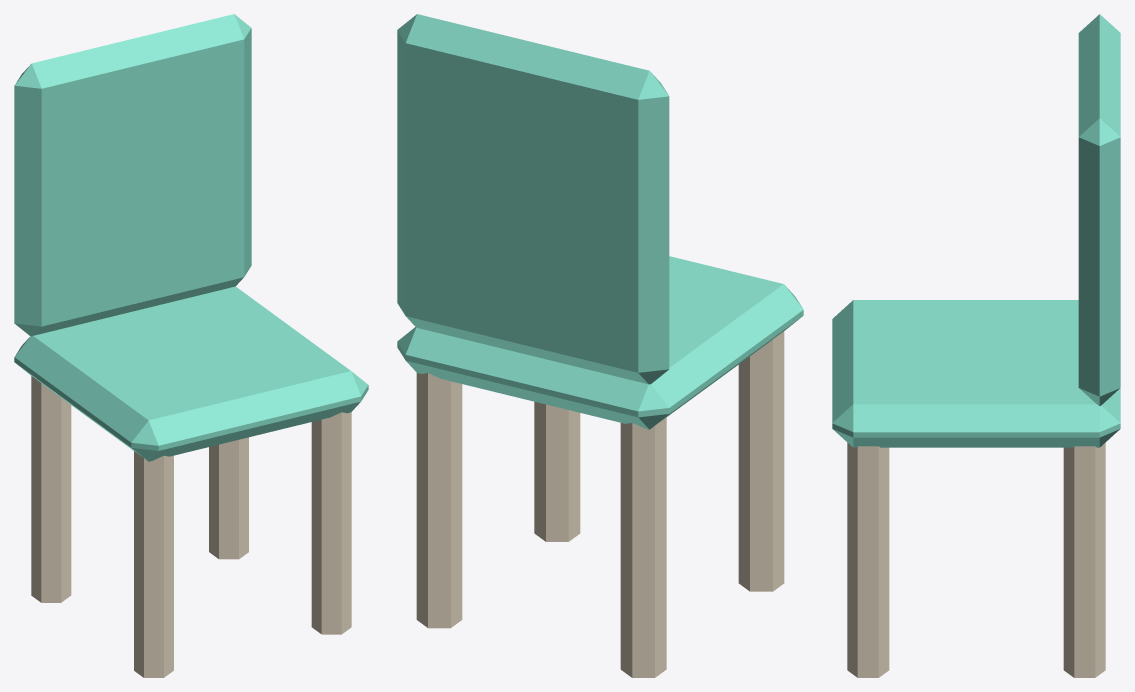
3 renders of one model, left to right at view 1: azimuth 30°, elevation 25°; view 2: azimuth 150°, elevation 25°; view 3: azimuth 270°, elevation 25°, orthographic. The views are drawn at different scales.
Visible parts, largest first — view 1: Backrest, Seat, Leg.002, Leg, Leg.001, Leg.003; view 2: Backrest, Seat, Leg.001, Leg.003, Leg, Leg.002; view 3: Seat, Backrest, Leg.002, Leg.003.
Part boxes in pixels (x1,y1,x2,y2): Backrest: (14,14,251,336); Seat: (14,286,368,461); Leg.002: (311,412,351,634); Leg: (134,451,173,677); Leg.001: (31,376,71,602); Leg.003: (209,437,248,559); Backrest: (397,14,669,384); Seat: (397,256,803,429); Leg.001: (620,417,666,677); Leg.003: (416,373,462,628); Leg: (738,331,784,591); Leg.002: (534,401,580,541); Seat: (832,300,1120,447); Backrest: (1078,14,1120,405); Leg.002: (847,443,889,677); Leg.003: (1063,443,1105,677).
Bounding box in the file's own units: 52.8 × 113 × 52.8.
